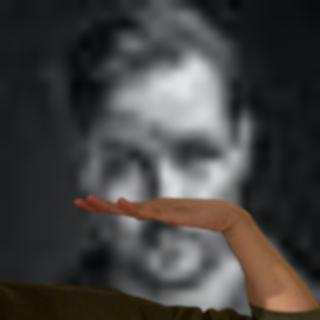WAIT: (73, 185, 248, 237)
